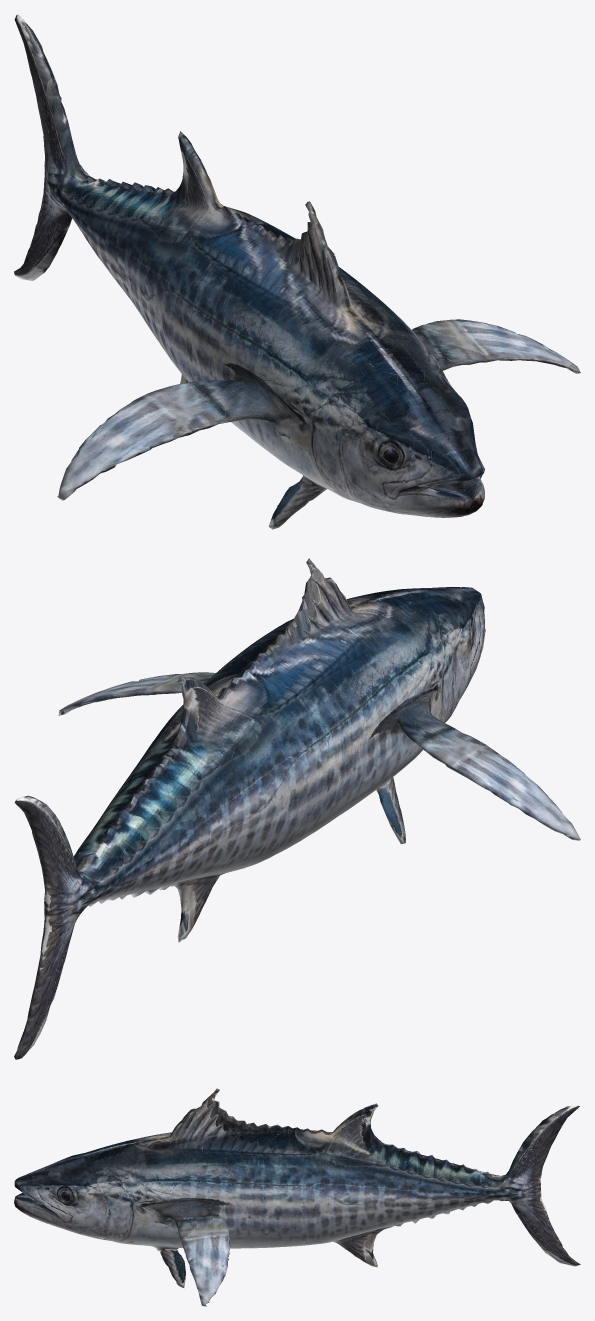
The model's file is fish_sawara.glb.
3 views of the same model, one above another, from view 1: azimuth 30°, elevation 25°; view 2: azimuth 150°, elevation 25°; view 3: azimuth 270°, elevation 25° (orthographic). The views are drawn at different scales.
Visible parts, largest first — view 1: geometry_0; view 2: geometry_0; view 3: geometry_0.
Boxes of the visible parts, x1=… form: geometry_0: x1=14, y1=14, x2=580, y2=529; geometry_0: x1=14, y1=558, x2=580, y2=1059; geometry_0: x1=14, y1=1088, x2=580, y2=1306.
Bounding box in the file's own units: 1.28 × 0.6846 × 1.96.
1 material, 1 textured.
